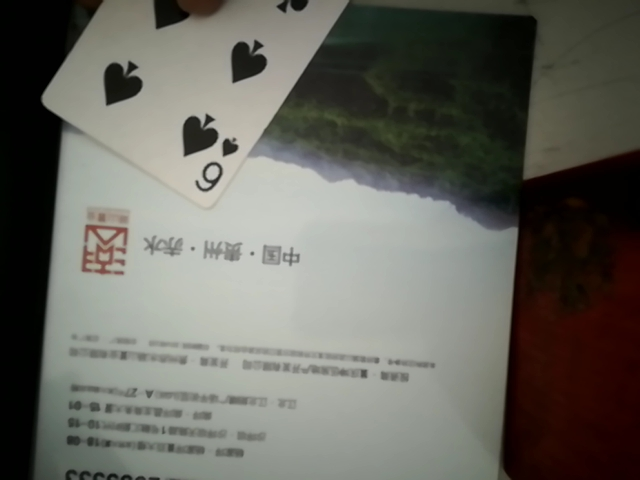ht 6: (39, 1, 362, 198)
